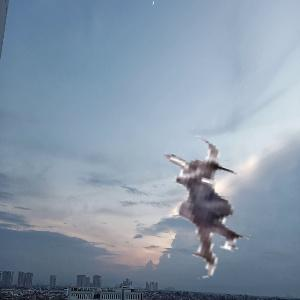drone: (121, 135, 274, 288)
